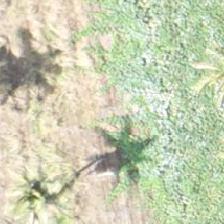Kelapa_Sawit: (0, 148, 83, 223)
